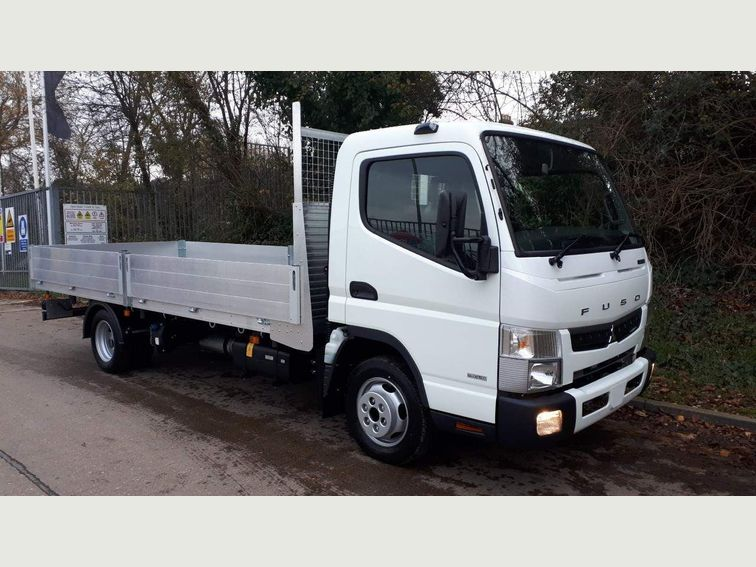Semi: (27, 100, 652, 458)
